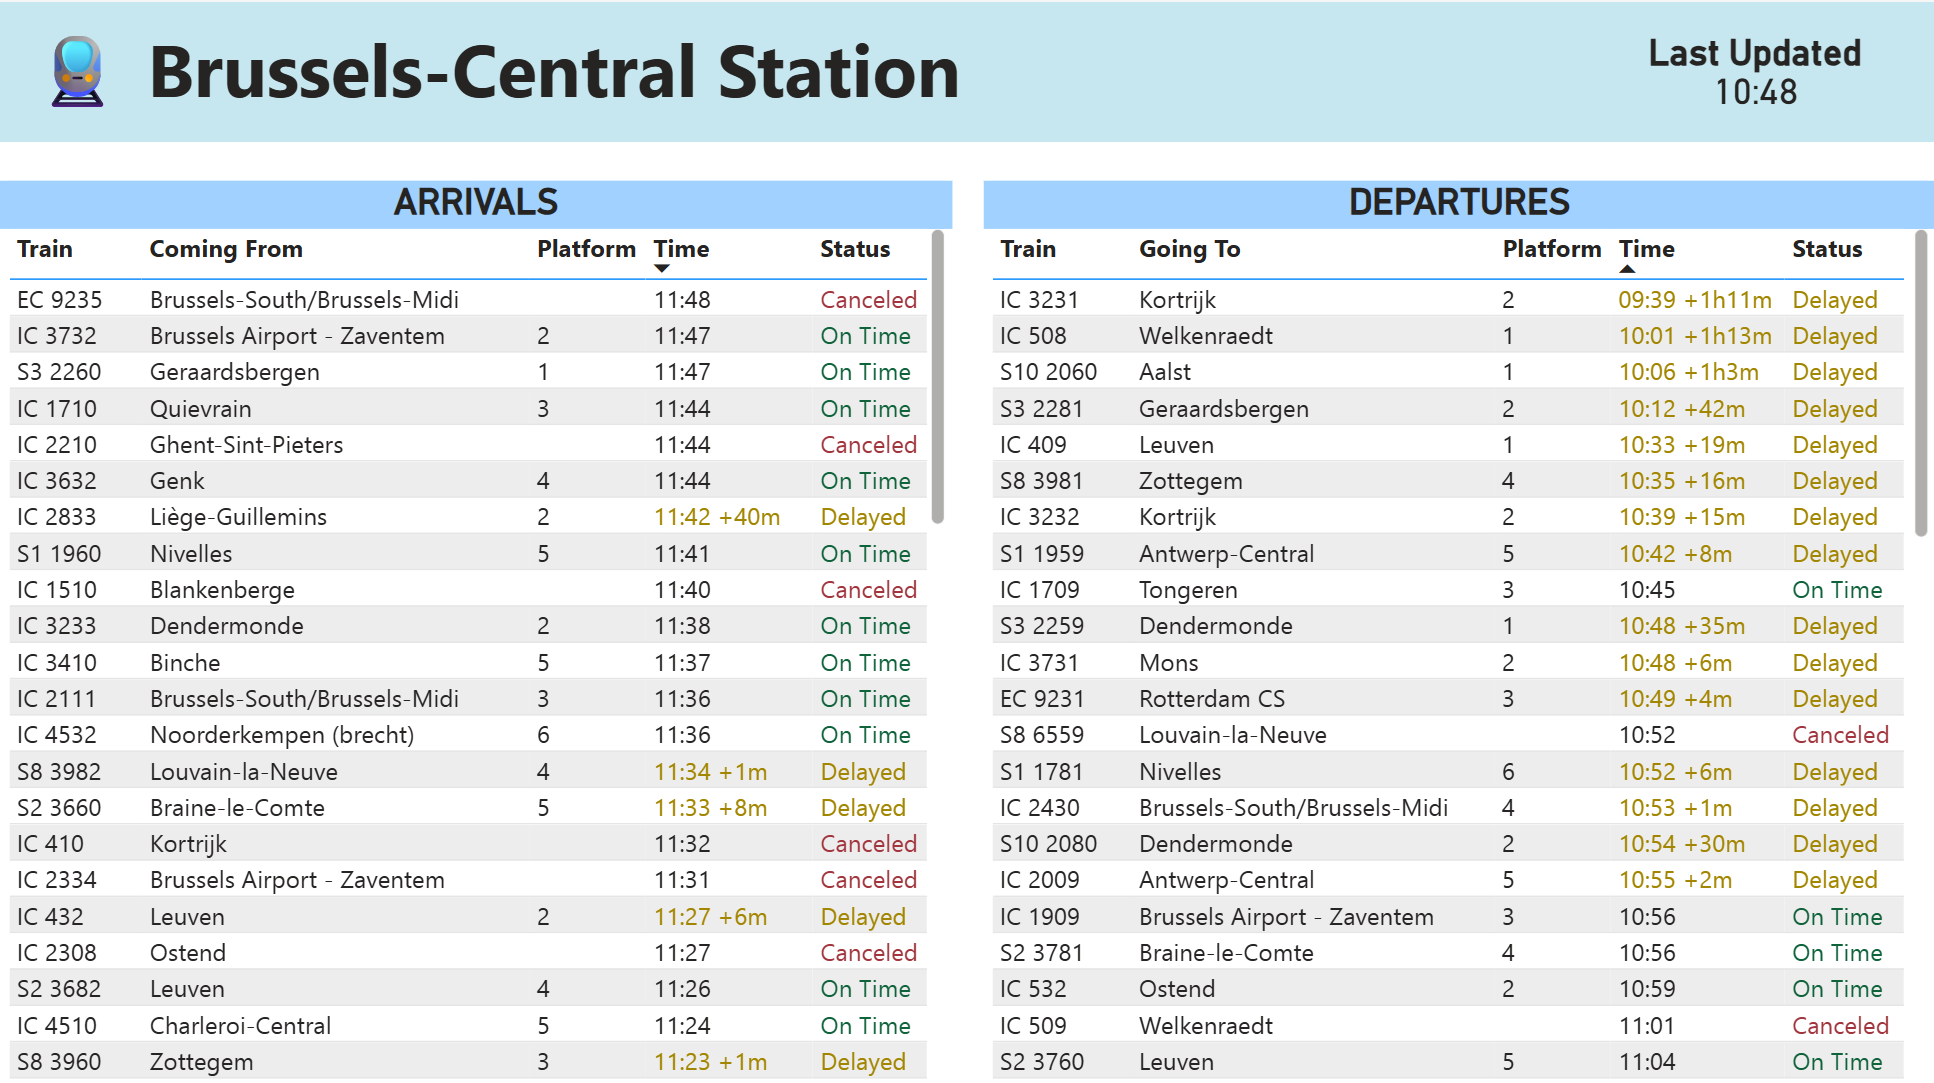

The page's visual inventory and layout, read from the dashboard file:
{"tool":"powerbi","page":{"name":"Train Schedules","canvas":[1280,720],"ordinal":0},"visuals":[{"type":"tableEx","title":"ARRIVALS","fields":{"Values":["train_schedules.train_name","train_schedules.departure_station","train_schedules.platform","train_schedules.TimeWithDelay","train_schedules.current_status"]},"box":[0,118.1,629.5,601.1],"z":0},{"type":"tableEx","title":"DEPARTURES","fields":{"Values":["train_schedules.train_name","train_schedules.arrival_station","train_schedules.platform","train_schedules.TimeWithDelay","train_schedules.current_status"]},"box":[650.5,118.1,629.5,601.1],"z":1000},{"type":"textbox","box":[0,0,1280,92.7],"z":3000},{"type":"card","title":"Last Updated","fields":{"Values":["train_schedules.LastUpdated"]},"box":[1052.7,19.4,215.3,55.3],"z":4500}]}

Visuals, with their boxes in screenshot pixels (x1, y1, x2, y2), scaled from the page's 1280x720 canvas onto the 1934x1083 screenshot:
"ARRIVALS" tableEx: 0,178,951,1082
"DEPARTURES" tableEx: 983,178,1933,1082
textbox: 0,0,1933,139
"Last Updated" card: 1591,29,1916,112
